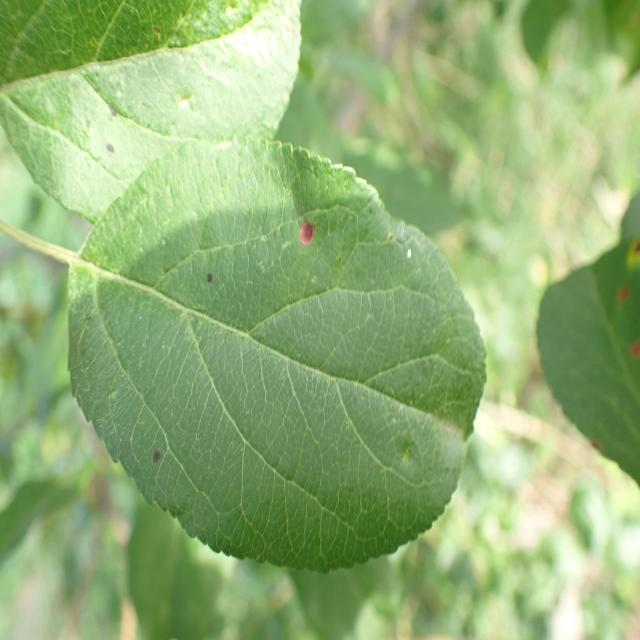Black Rot: (279, 212, 330, 267)
